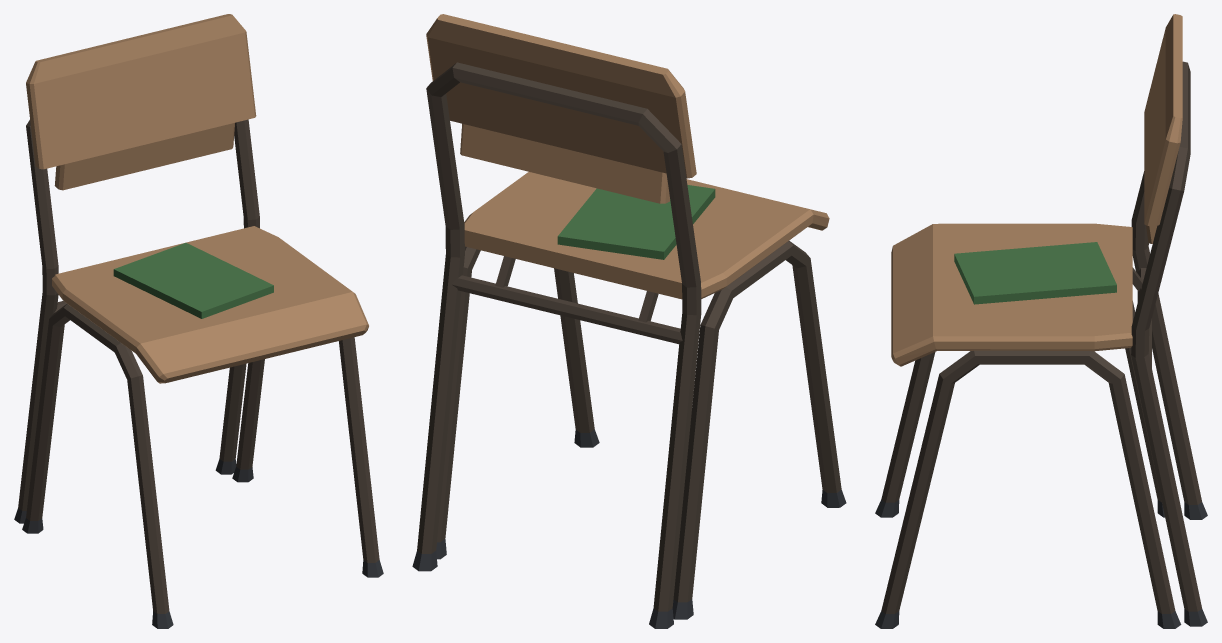
The picture shows the model from 3 angles, left to right: view 1: azimuth 30°, elevation 25°; view 2: azimuth 150°, elevation 25°; view 3: azimuth 270°, elevation 25°; orthographic projection. The views are drawn at different scales.
Parts seen in each view (by area): view 1: chair, dressing-mesh; view 2: chair, dressing-mesh; view 3: chair, dressing-mesh.
Boxes of the visible parts, bbox=[...] form: chair: bbox=[14, 14, 383, 628]; dressing-mesh: bbox=[113, 243, 273, 318]; chair: bbox=[412, 14, 846, 628]; dressing-mesh: bbox=[557, 185, 715, 259]; chair: bbox=[875, 14, 1207, 628]; dressing-mesh: bbox=[954, 242, 1116, 304].
Size of the model in its own units: 0.409 by 0.8016 by 0.48.
